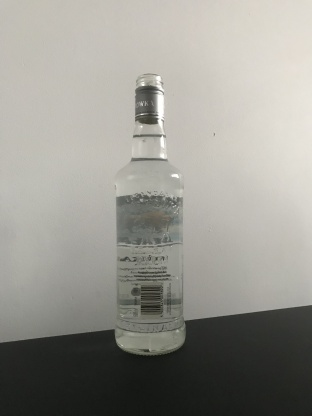nakretka: (133, 72, 166, 124)
